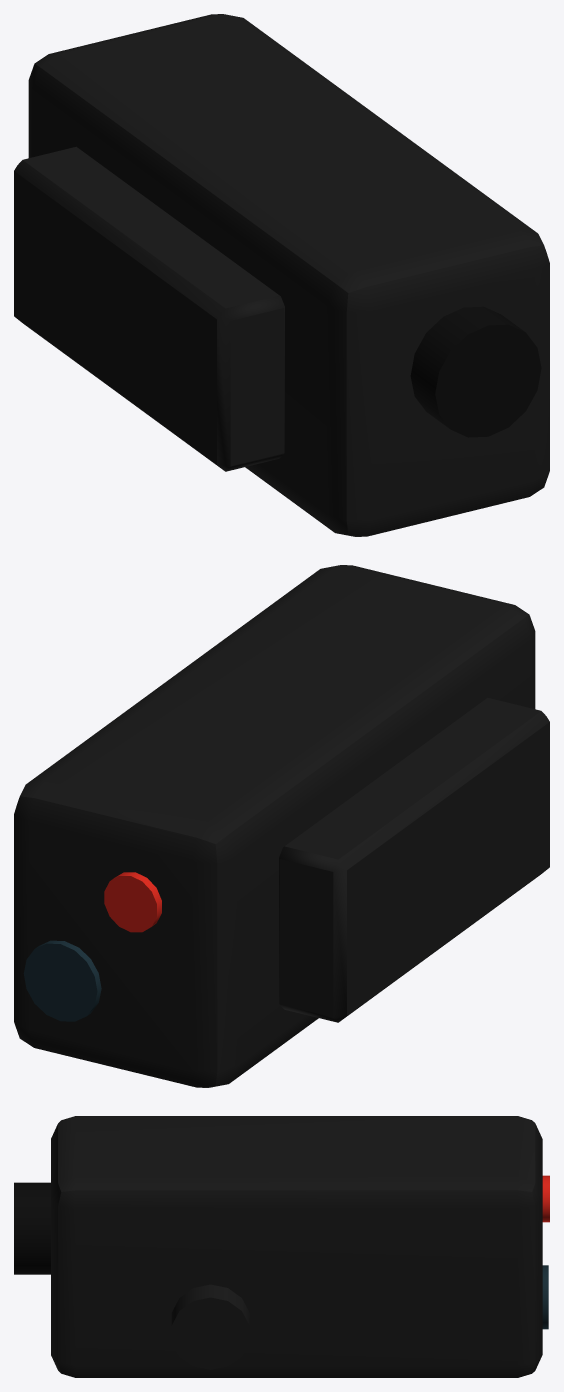
Rendered from laser.glb.
3 views of the same model, one above another, from view 1: azimuth 30°, elevation 25°; view 2: azimuth 150°, elevation 25°; view 3: azimuth 270°, elevation 25° (orthographic). The views are drawn at different scales.
Visible parts, largest first — view 1: body; view 2: body; view 3: body.
Boxes of the visible parts, bbox=[...] form: body: bbox=[14, 14, 549, 536]; body: bbox=[14, 565, 549, 1087]; body: bbox=[14, 1116, 549, 1377].
Bounding box in the file's own units: 0.045 × 0.036 × 0.0872.
